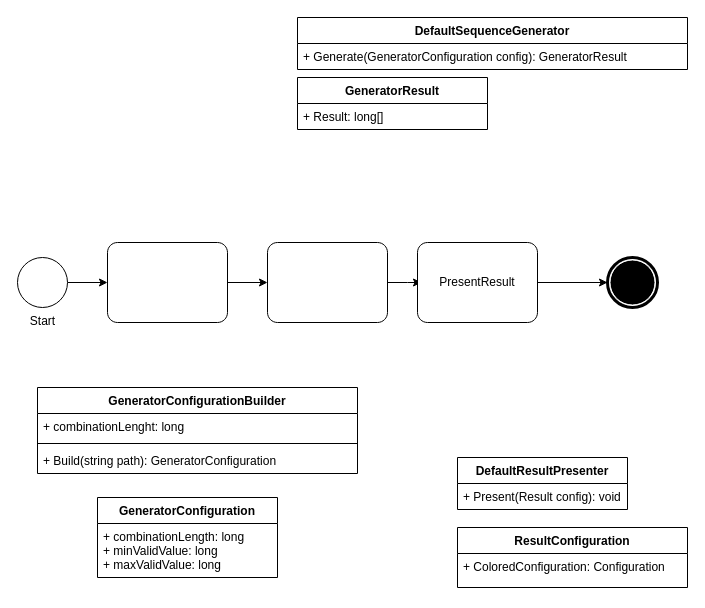
This 705x608 diagram has some shape labels left out. The centre of each missing label's shape, as x and y in pixels:
Build lottery configuration: (x=167, y=282)
Get random generator: (x=327, y=282)
